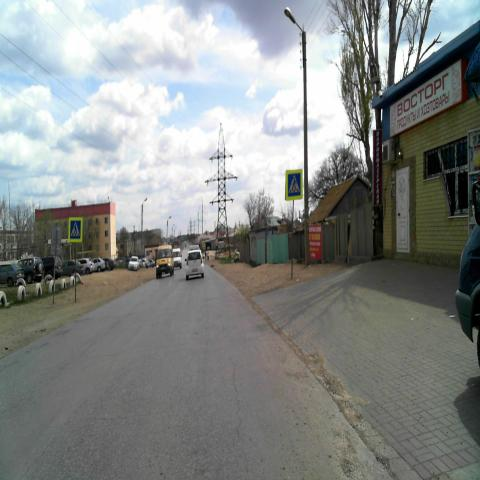5_19_1: (286, 170, 304, 200), (68, 217, 82, 243)
